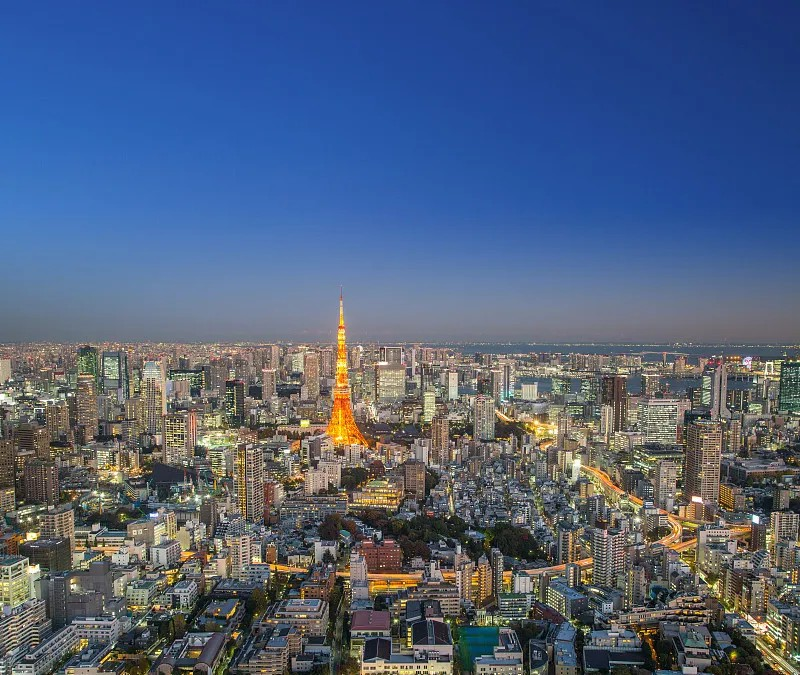Tokyo: (322, 281, 368, 448)
